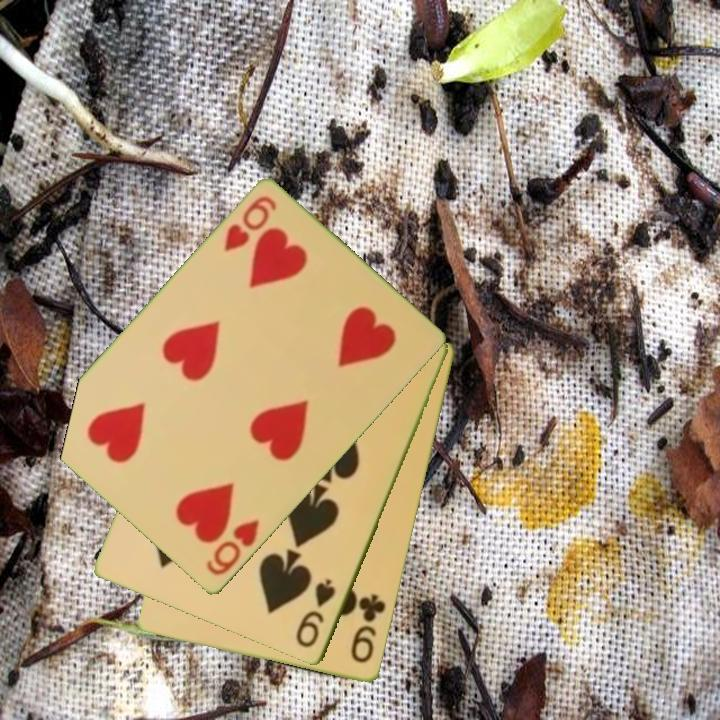6h: (202, 516, 263, 580), (220, 192, 280, 255)
9c: (347, 590, 389, 667)
9s: (292, 575, 339, 652)
